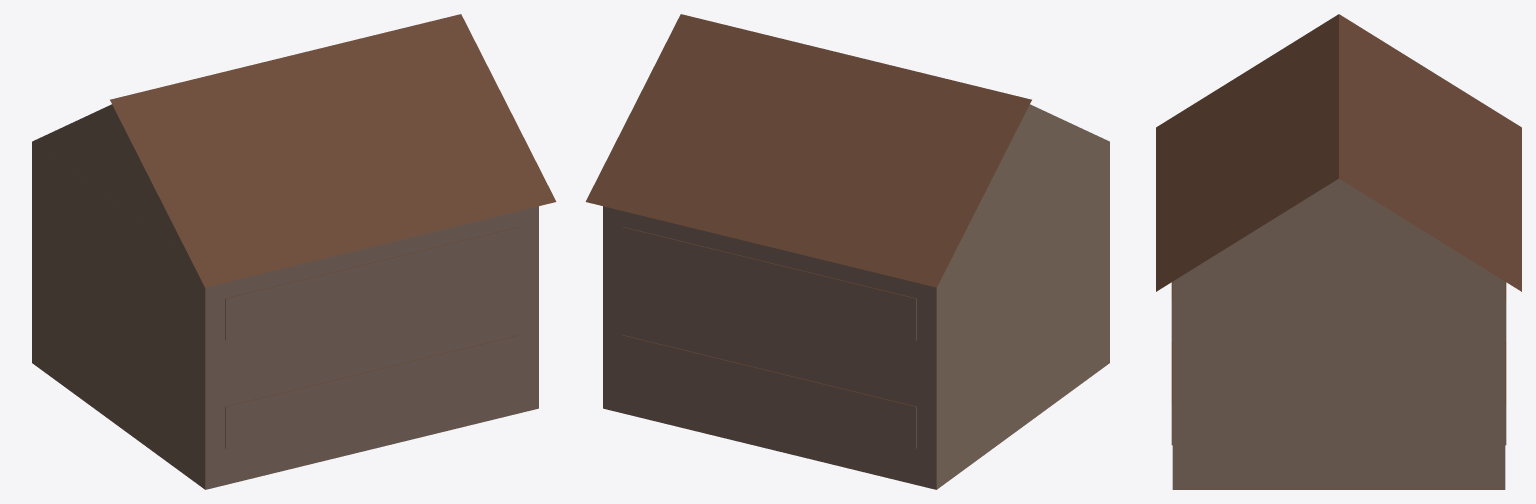
The model's file is village-store.far-facades-v3.lod2.glb.
3 views of the same model, side by side, from view 1: azimuth 30°, elevation 25°; view 2: azimuth 150°, elevation 25°; view 3: azimuth 270°, elevation 25° (orthographic). The views are drawn at different scales.
Visible parts, largest first — view 1: village-store; view 2: village-store; view 3: village-store.
Boxes of the visible parts, x1,y1,x2,y2 form: village-store: (32,14,556,489); village-store: (585,14,1109,489); village-store: (1156,14,1521,489).
Bounding box in the file's own units: 10.54 × 9.43 × 9.9.
